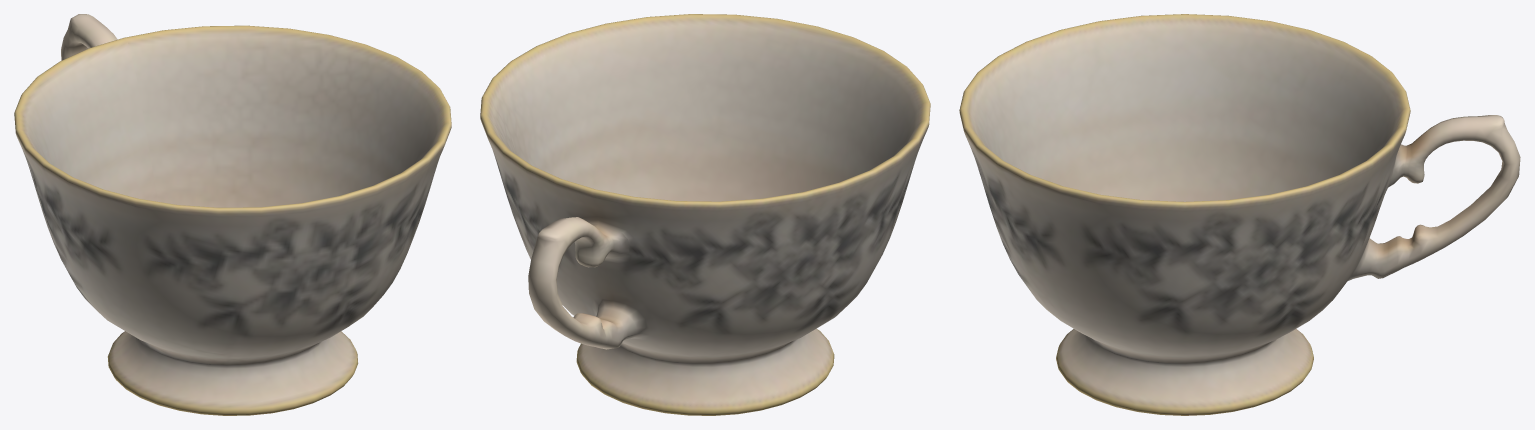
File: teacup.glb
3 renders of one model, left to right at view 1: azimuth 30°, elevation 25°; view 2: azimuth 150°, elevation 25°; view 3: azimuth 270°, elevation 25°, orthographic. The views are drawn at different scales.
Parts seen in each view (by area): view 1: tea_set_01_cup_small_02; view 2: tea_set_01_cup_small_02; view 3: tea_set_01_cup_small_02.
Boxes of the visible parts, x1,y1,x2,y2 form: tea_set_01_cup_small_02: (14, 14, 451, 415); tea_set_01_cup_small_02: (480, 14, 930, 415); tea_set_01_cup_small_02: (959, 14, 1520, 415).
Bounding box in the file's own units: 0.1069 × 0.0674 × 0.133.
1 material, 1 textured.
